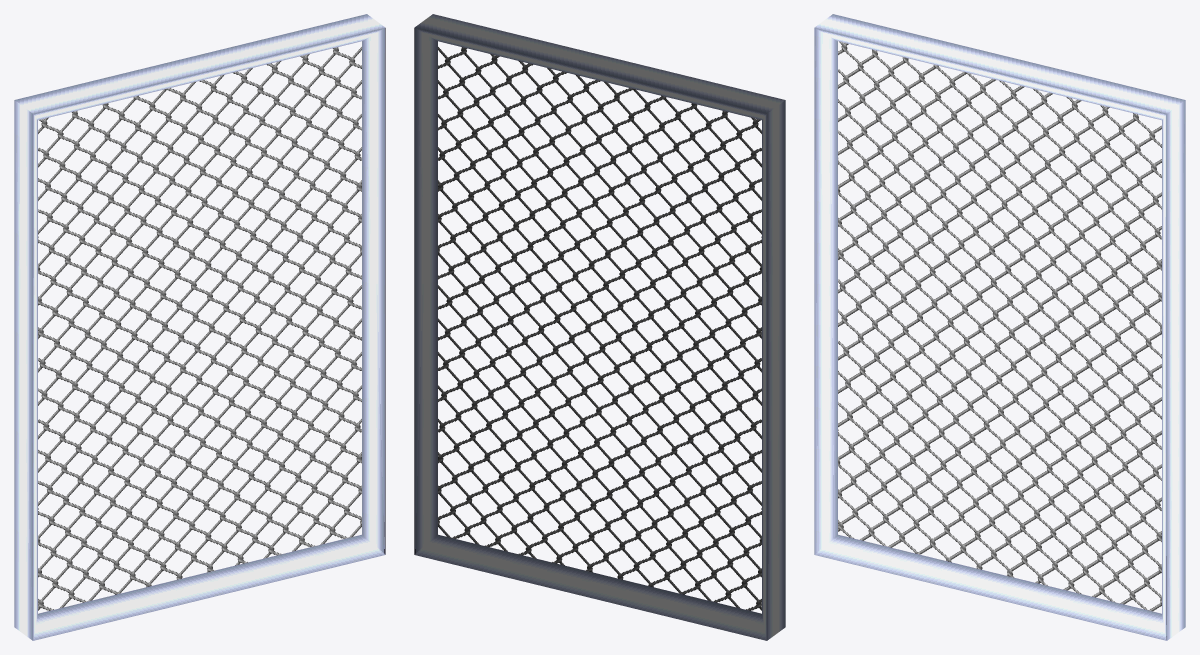
File: PdamchaindoorZ.obj
The picture shows the model from 3 angles, left to right: view 1: azimuth 30°, elevation 25°; view 2: azimuth 150°, elevation 25°; view 3: azimuth 330°, elevation 25°; orthographic projection.
Bounding box in the file's own units: 196 × 280 × 18.
Materials: 2 (2 with a texture image).
